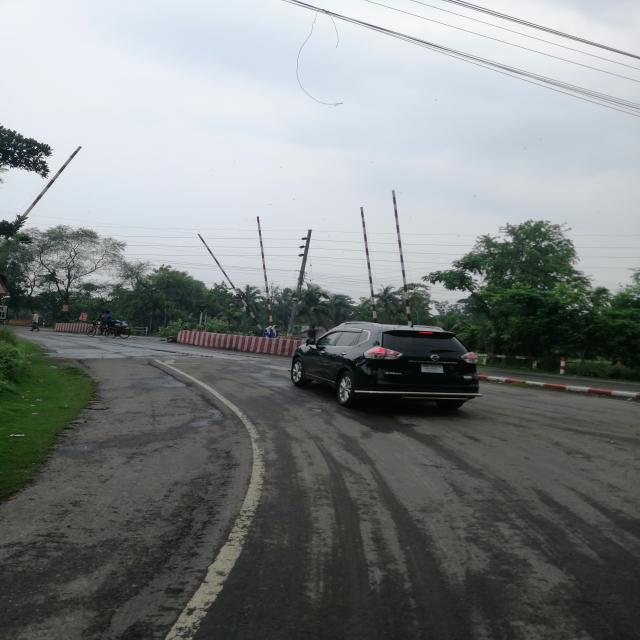Car: (242, 303, 494, 442)
